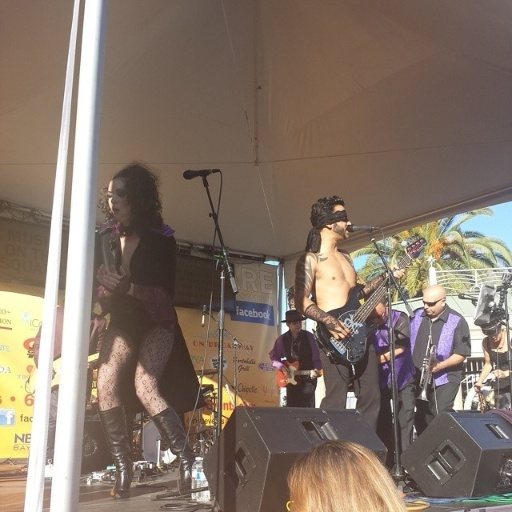hand: (102, 264, 131, 299), (97, 264, 118, 291), (325, 318, 350, 339), (385, 264, 406, 279), (427, 361, 440, 374), (492, 367, 504, 380), (310, 367, 319, 377), (283, 367, 291, 377), (473, 382, 480, 392)
